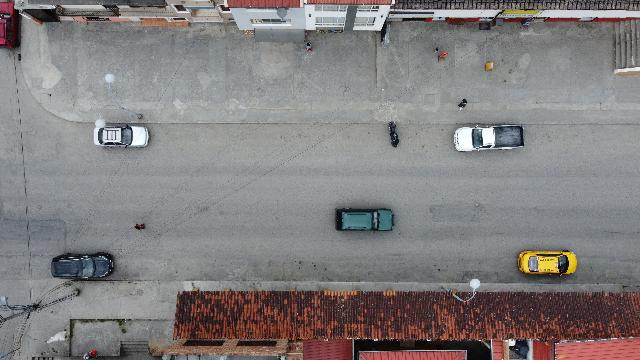Vehiculo: (454, 125, 524, 152), (51, 253, 113, 280), (518, 250, 576, 276), (334, 209, 394, 232), (94, 124, 148, 148)
